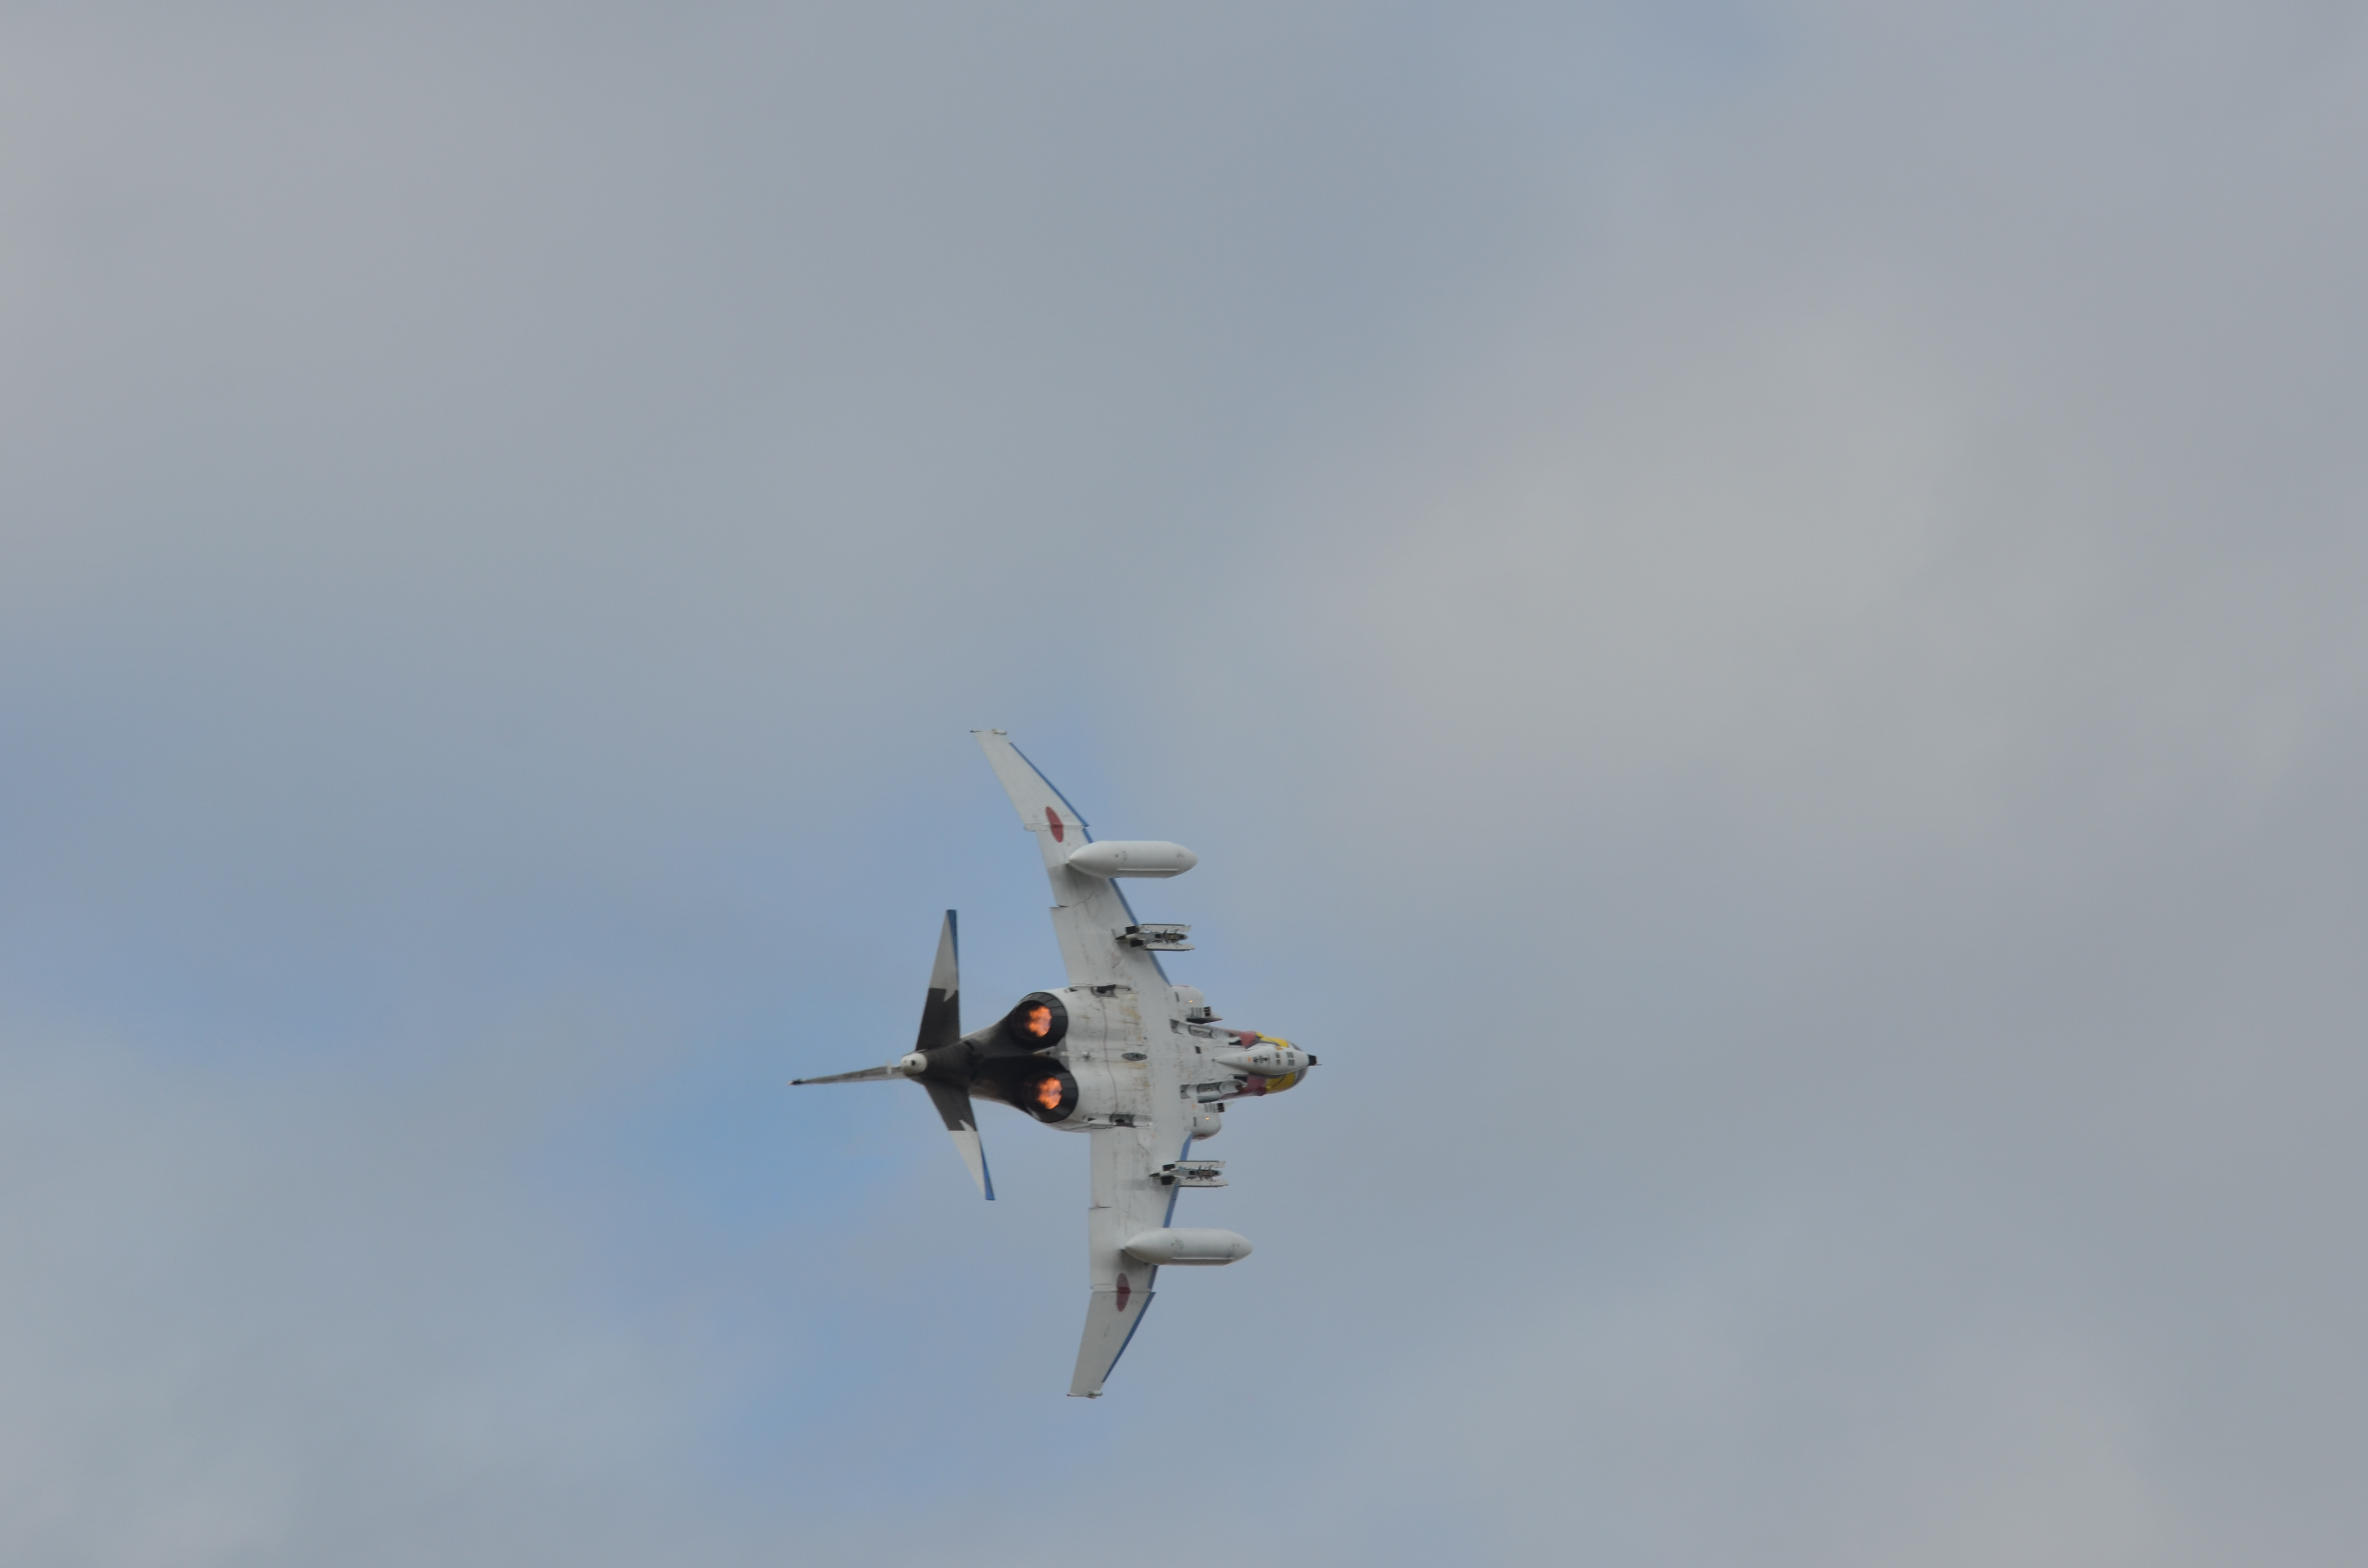F4: (786, 726, 1323, 1400)
